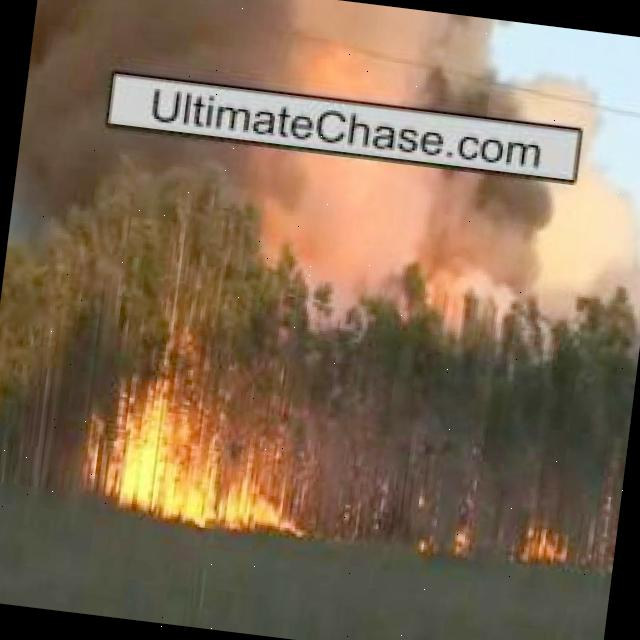fire: (92, 394, 302, 538), (416, 511, 472, 559), (521, 529, 566, 560)
